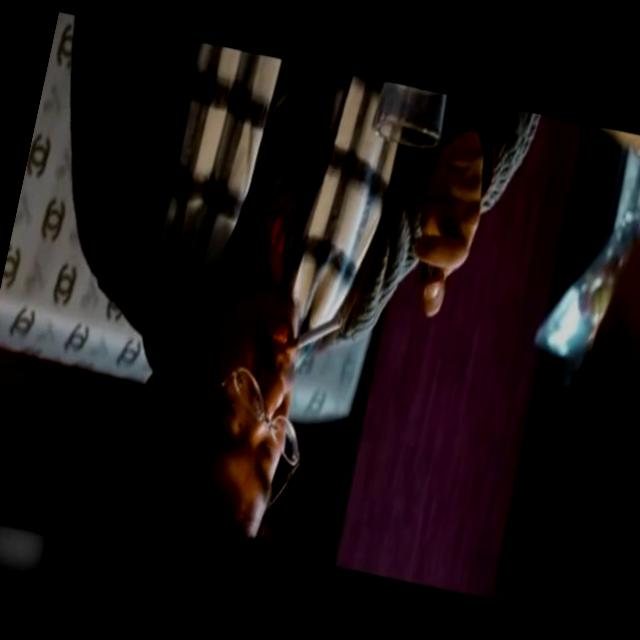smoke: (272, 304, 346, 373)
